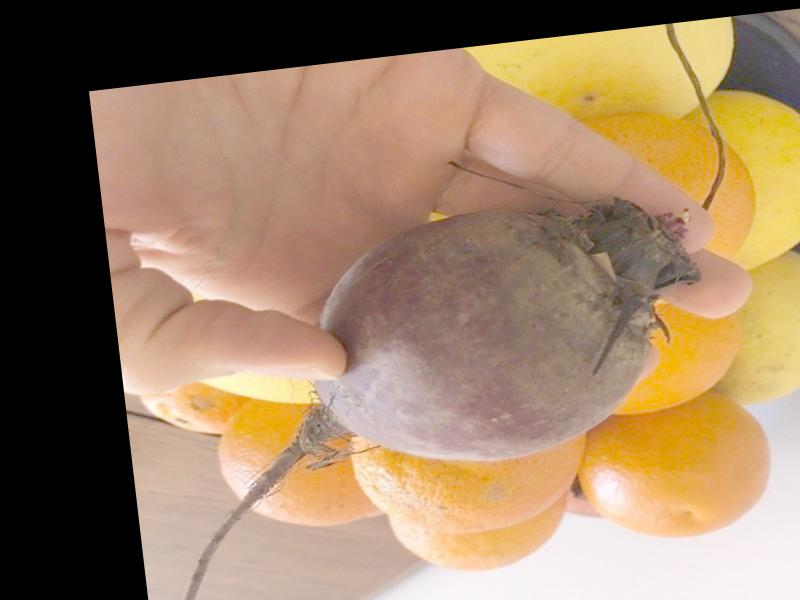Beet: (129, 188, 726, 600)
